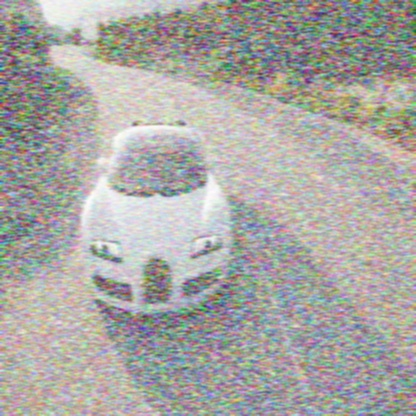Vehicle: (82, 116, 232, 315)
